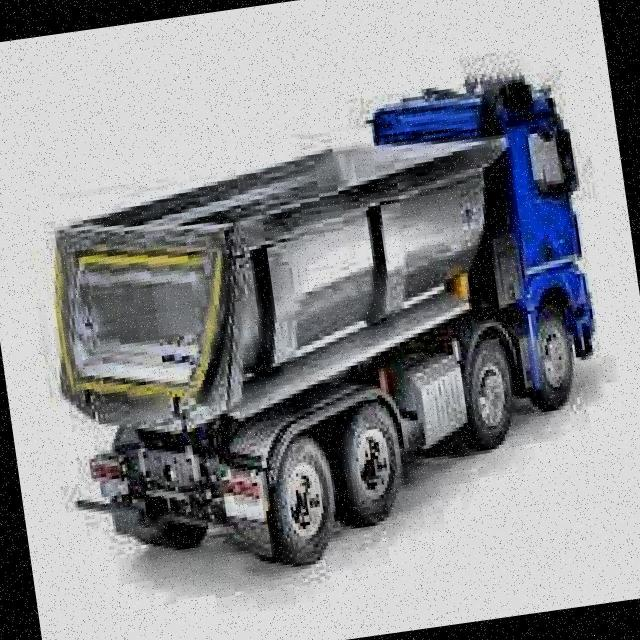dump_truck: (23, 68, 621, 587)
